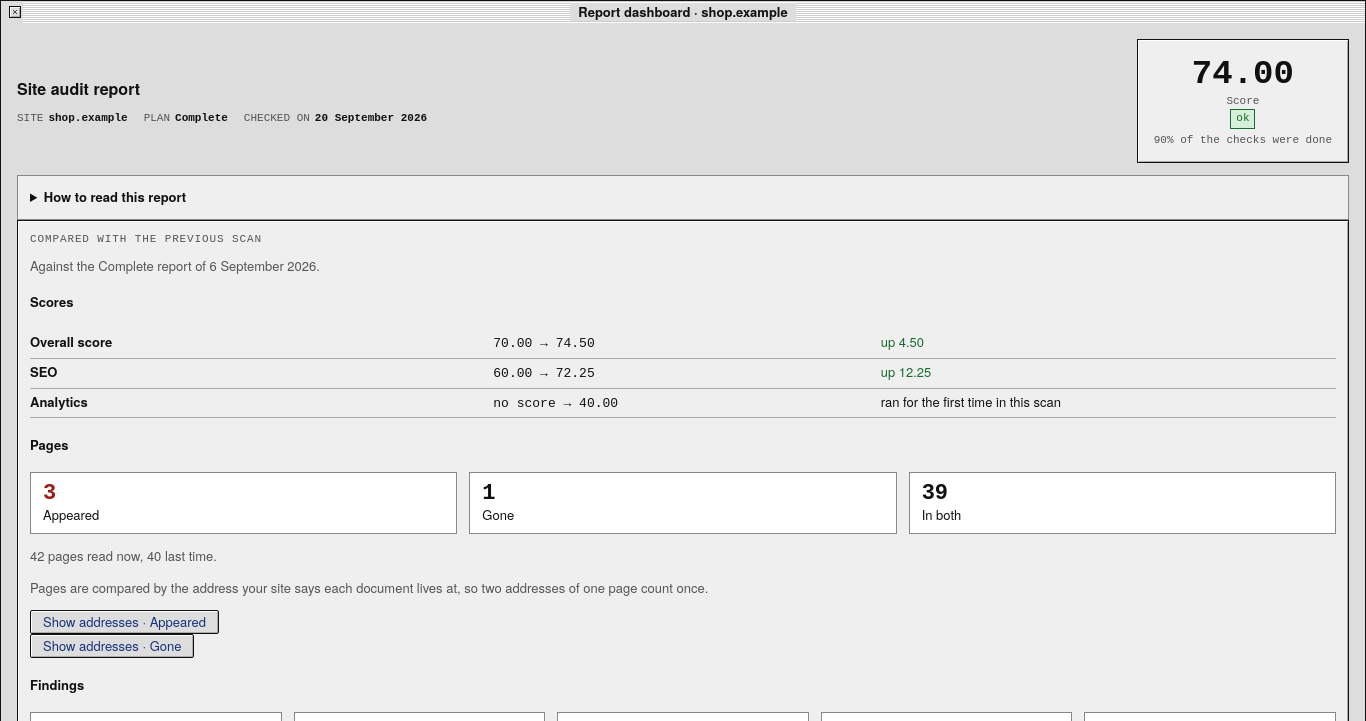
Test: the comparison panel › keeps the address and finding samples behind a control
This screenshot has width=1366, height=721.
Check: the heading "Site audit report" is shown, box [17, 77, 140, 100]
Check: the text "https://shop.example/new-product" is not shown
Click the button "Show addresses · Appeared".
click(124, 622)  # box [30, 610, 219, 634]
(page scrolled)
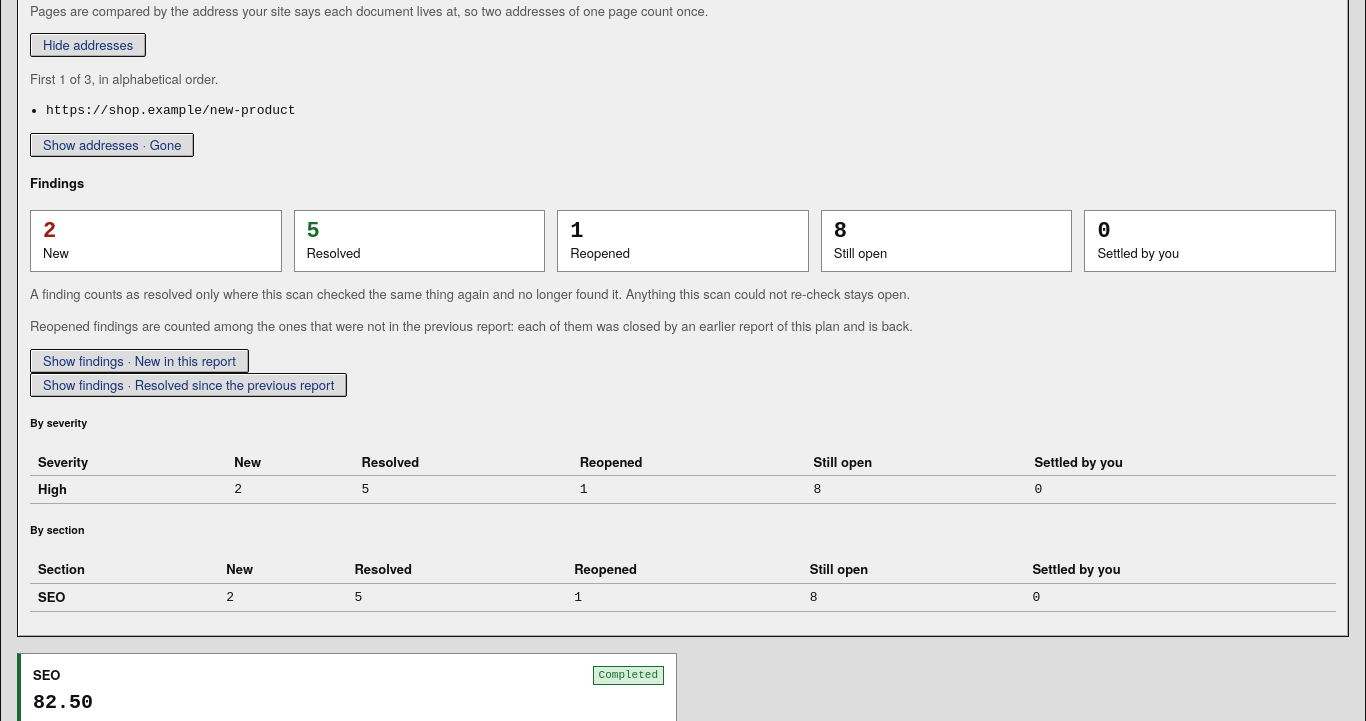
Check: the list item "https://shop.example/new-product" is shown, box [46, 103, 296, 118]
Check: the text "First 1 of 3, in alphabetical order." is shown, box [30, 69, 218, 88]
Click the button "Show findings · Resolved since the previous report".
click(189, 385)  # box [30, 373, 347, 397]
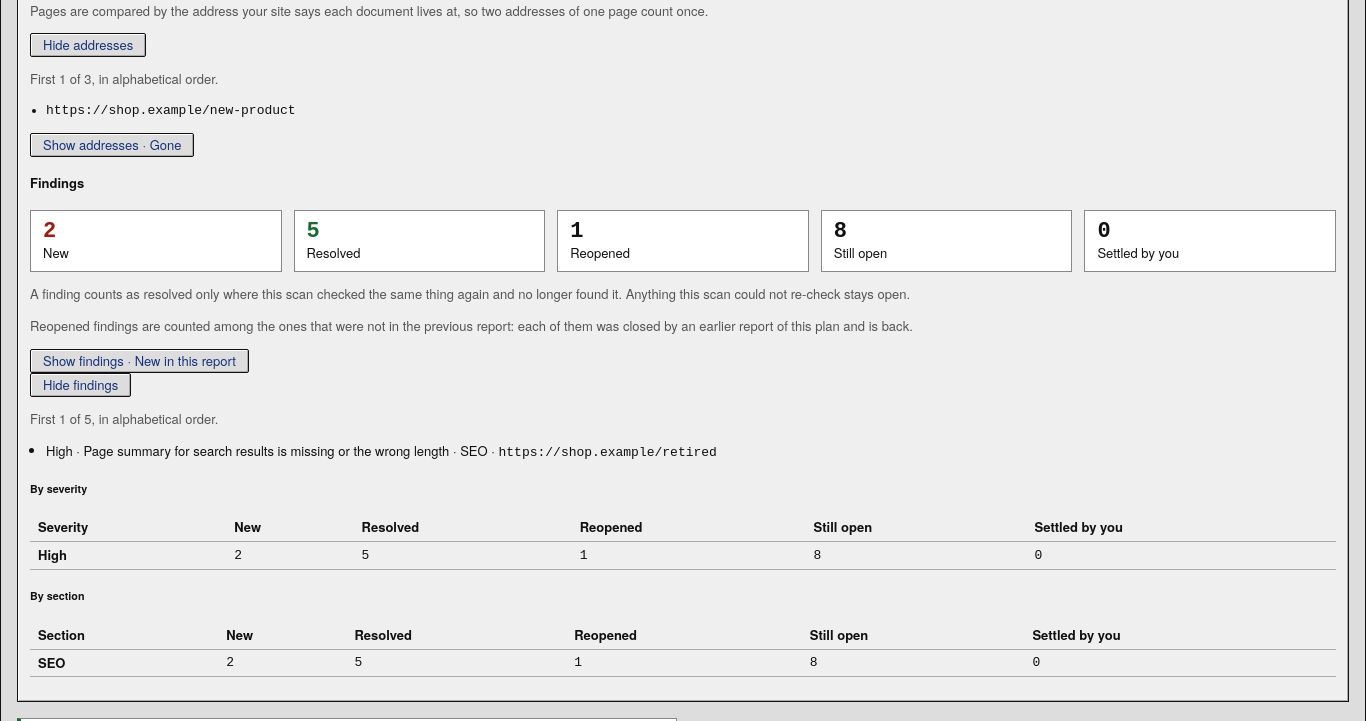
Check: the list item "https://shop.example/retired" shows "High", box [46, 441, 73, 460]
